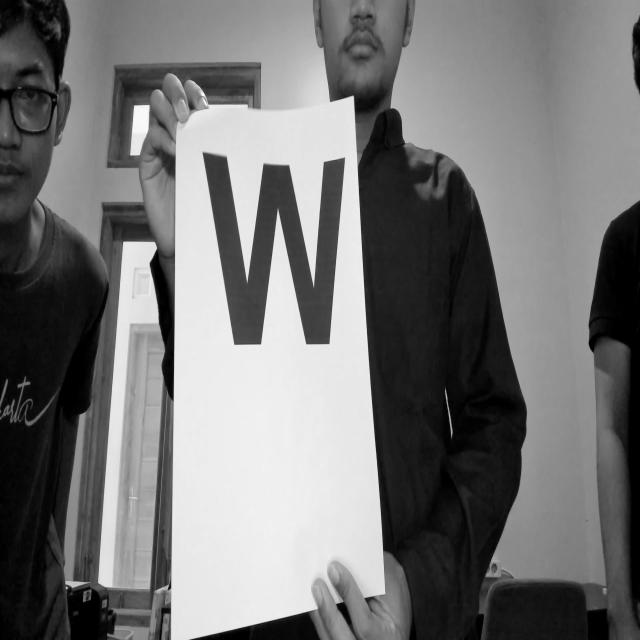w: (200, 135, 367, 364)
